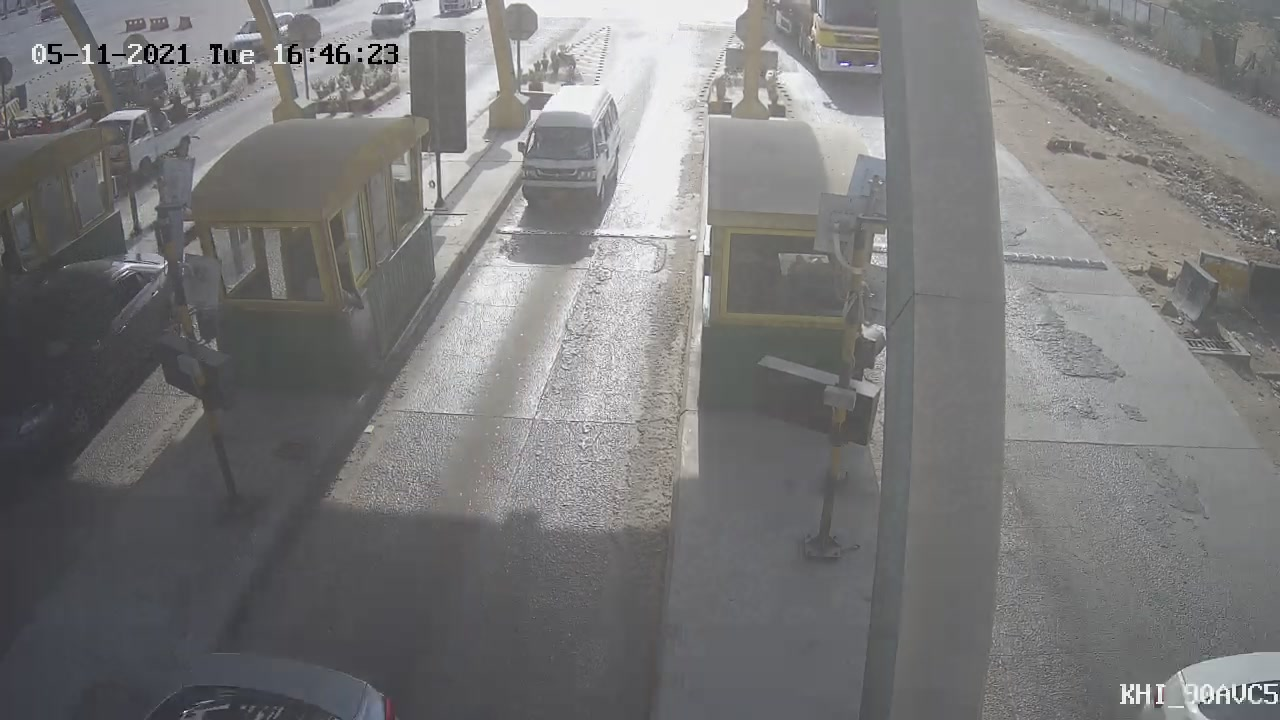F1: (501, 73, 637, 227)
